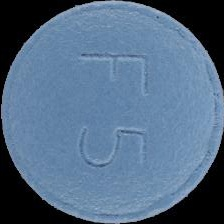63187-265: (0, 0, 224, 224)
